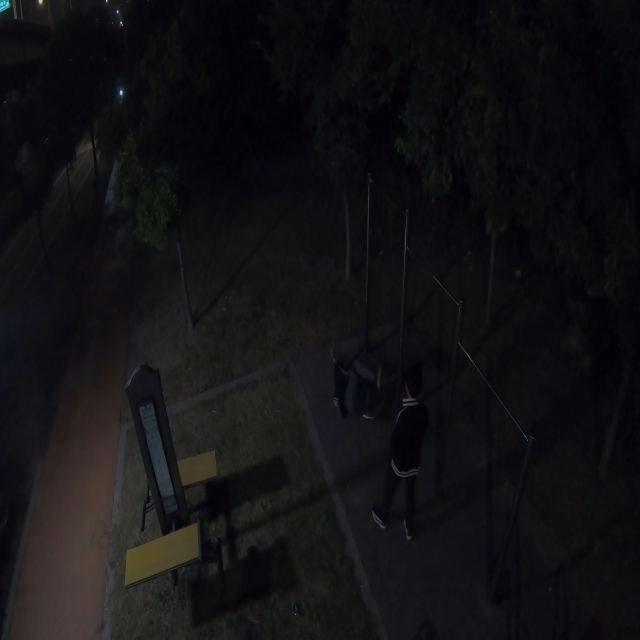fight: (330, 339, 426, 538)
